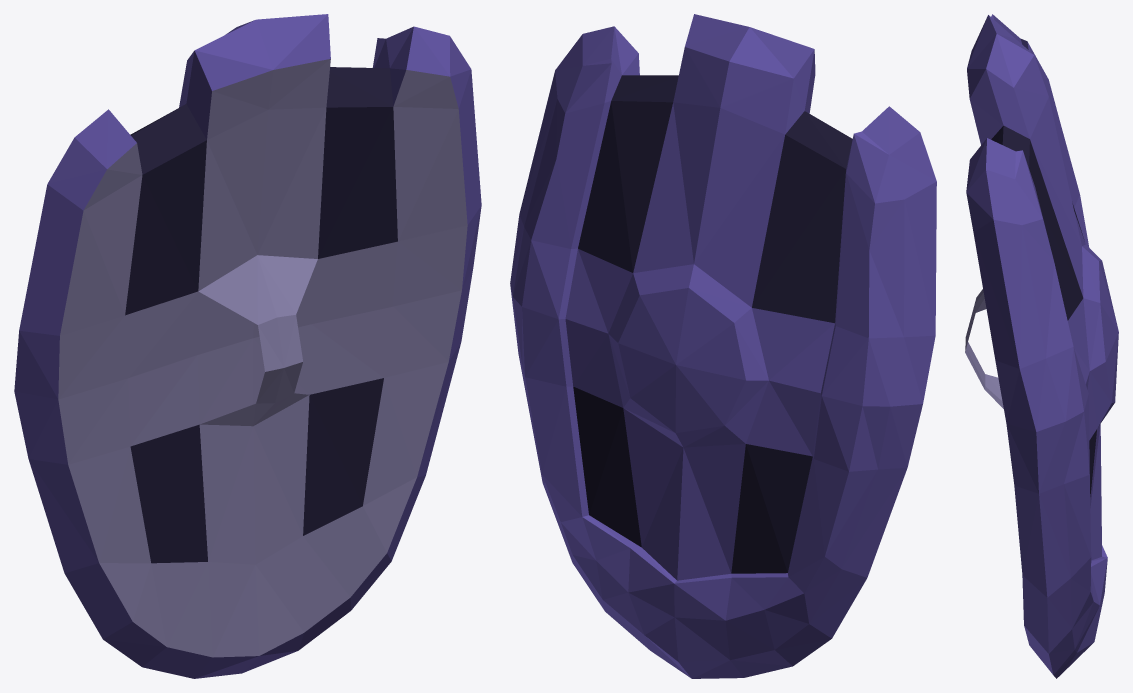
Rendered from mithril_shield.glb.
The picture shows the model from 3 angles, left to right: view 1: azimuth 30°, elevation 25°; view 2: azimuth 150°, elevation 25°; view 3: azimuth 270°, elevation 25°; orthographic projection. The views are drawn at different scales.
Visible parts, largest first — view 1: mithril_shield; view 2: mithril_shield; view 3: mithril_shield.
Part boxes in pixels (<box>): mithril_shield: <box>14,14,481,678</box>; mithril_shield: <box>510,14,936,678</box>; mithril_shield: <box>965,14,1118,678</box>.
Size of the model in its own units: 0.6981 by 1 by 0.2231.
